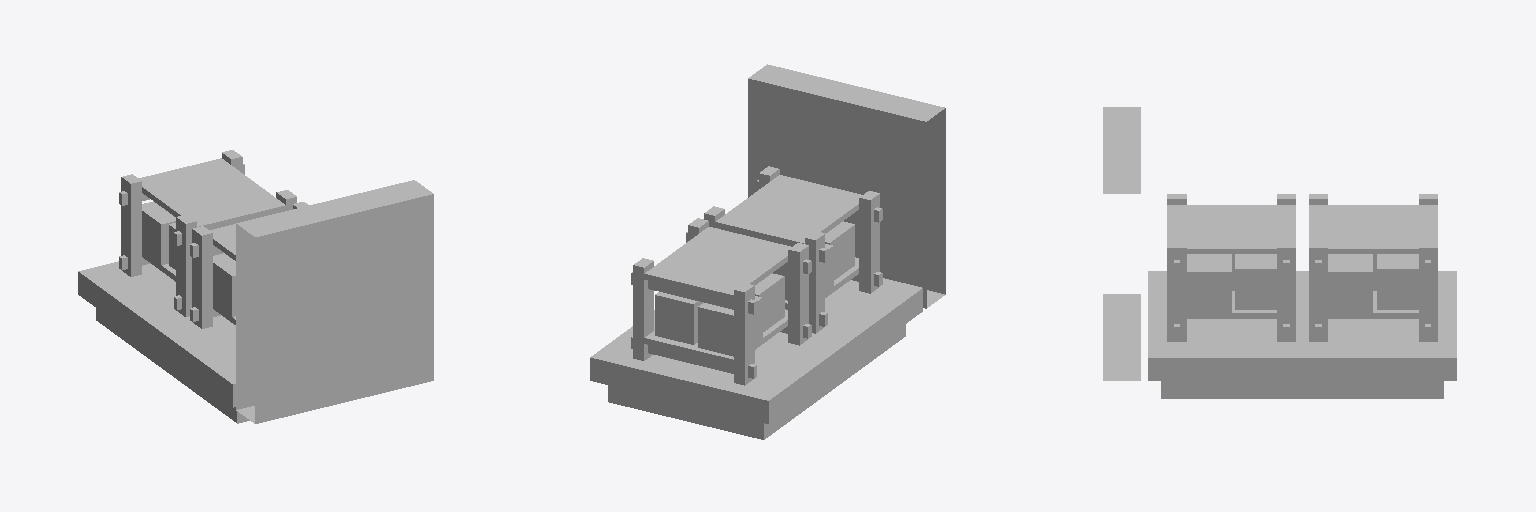
Rendered from car_kiln_anim.obj.
3 renders of one model, left to right at view 1: azimuth 30°, elevation 25°; view 2: azimuth 150°, elevation 25°; view 3: azimuth 270°, elevation 25°, orthographic.
Parts seen in each view (by area): view 1: inletBoard, shelf2, trolleyFloor2, shelf1, trolleyFloor1; view 2: inletBoard, shelf2, trolleyFloor2, shelf1, trolleyFloor1; view 3: trolleyFloor2, shelf1, shelf2, inletBoard, trolleyFloor1.
Part boxes in pixels (x1,y1,x2,y2): inletBoard: (236,180,433,423); shelf2: (119,150,296,316); trolleyFloor2: (78,261,235,407); shelf1: (190,202,308,328); trolleyFloor1: (96,308,249,423); inletBoard: (748,64,945,308); shelf2: (631,218,811,385); trolleyFloor2: (590,278,922,423); shelf1: (704,166,882,333); trolleyFloor1: (608,324,905,439); trolleyFloor2: (1148,271,1456,380); shelf1: (1167,194,1295,341); shelf2: (1309,194,1437,341); inletBoard: (1103,107,1140,380); trolleyFloor1: (1161,381,1443,398).
Size of the model in its own units: 2 by 2.25 by 3.44.